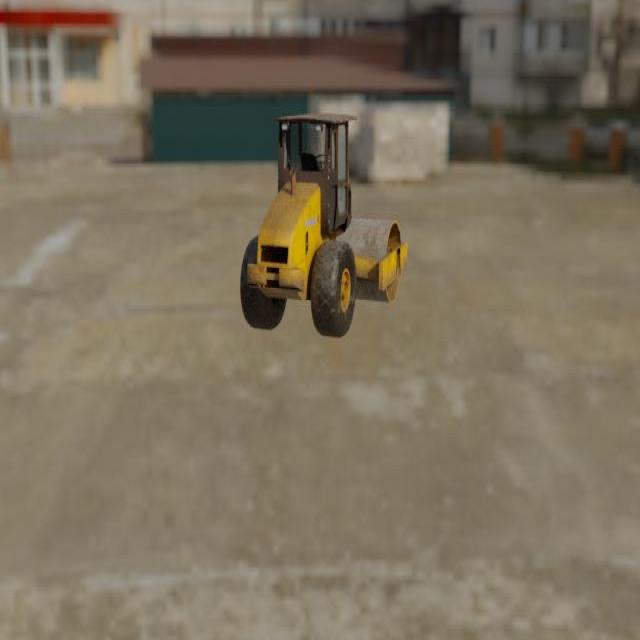Roller: (239, 112, 407, 337)
